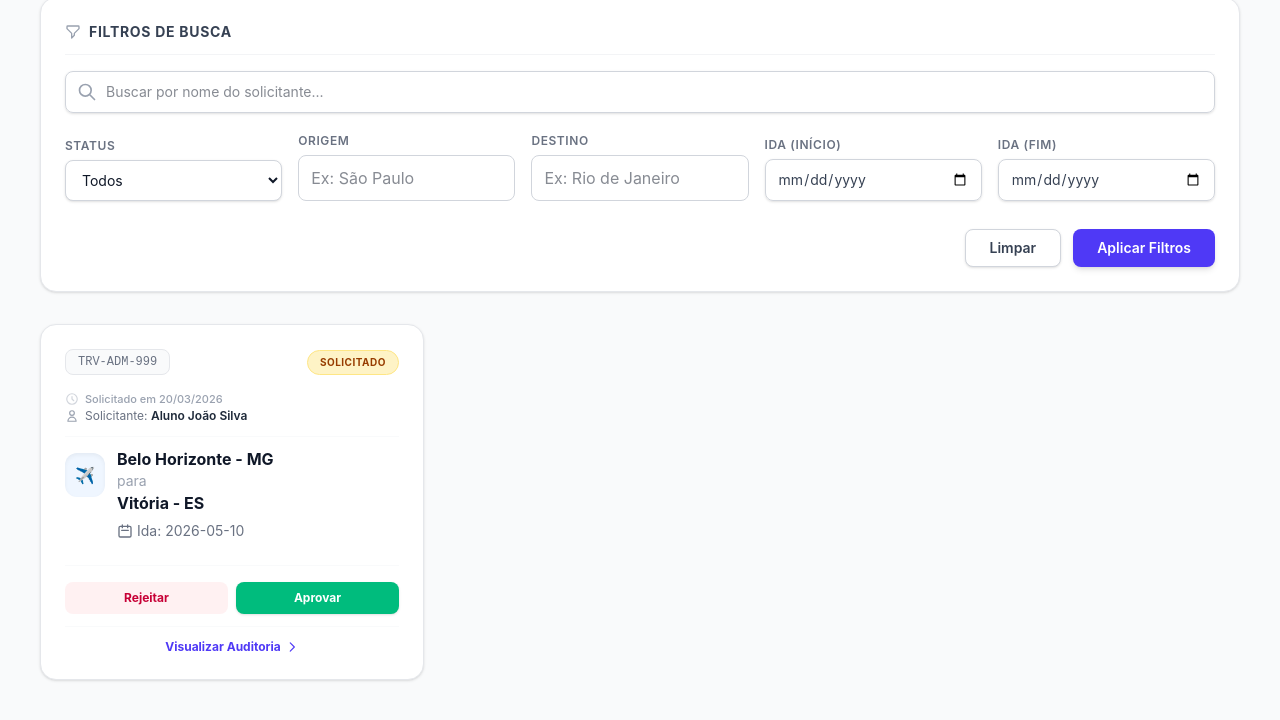
Test case: Travel Front-end E2E - Fluxos de Negócio › Visão do Admin › deve reprovar (cancelar) um pedido via SweetAlert2
The image size is (1280, 720).
(page scrolled)
Click the button "Rejeitar" at (147, 598), box top-left (65, 582), bottom-right (228, 614)
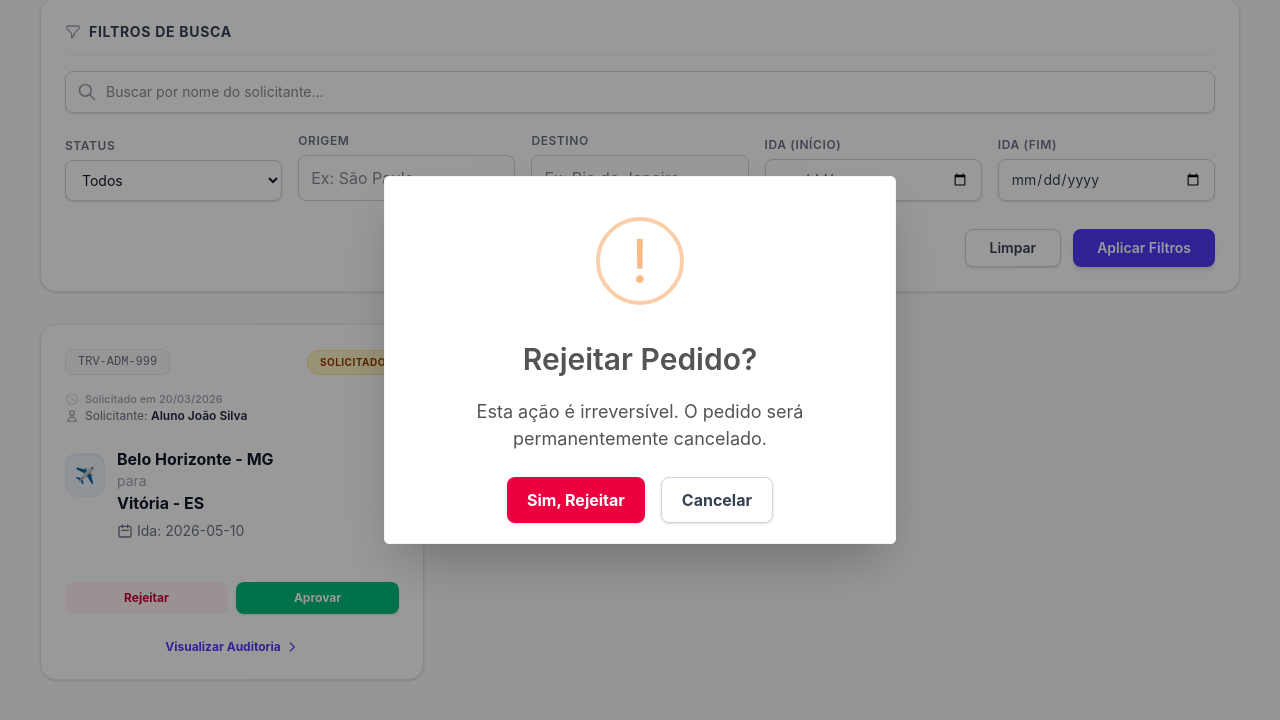
Expected: the heading "Rejeitar Pedido?" is shown, top-left (523, 341), bottom-right (757, 377)
Expected: the text "Esta ação é irreversível" is shown, top-left (477, 401), bottom-right (804, 449)
Click the button "Sim, Rejeitar" at (576, 501), box top-left (507, 478), bottom-right (645, 524)
(page scrolled)
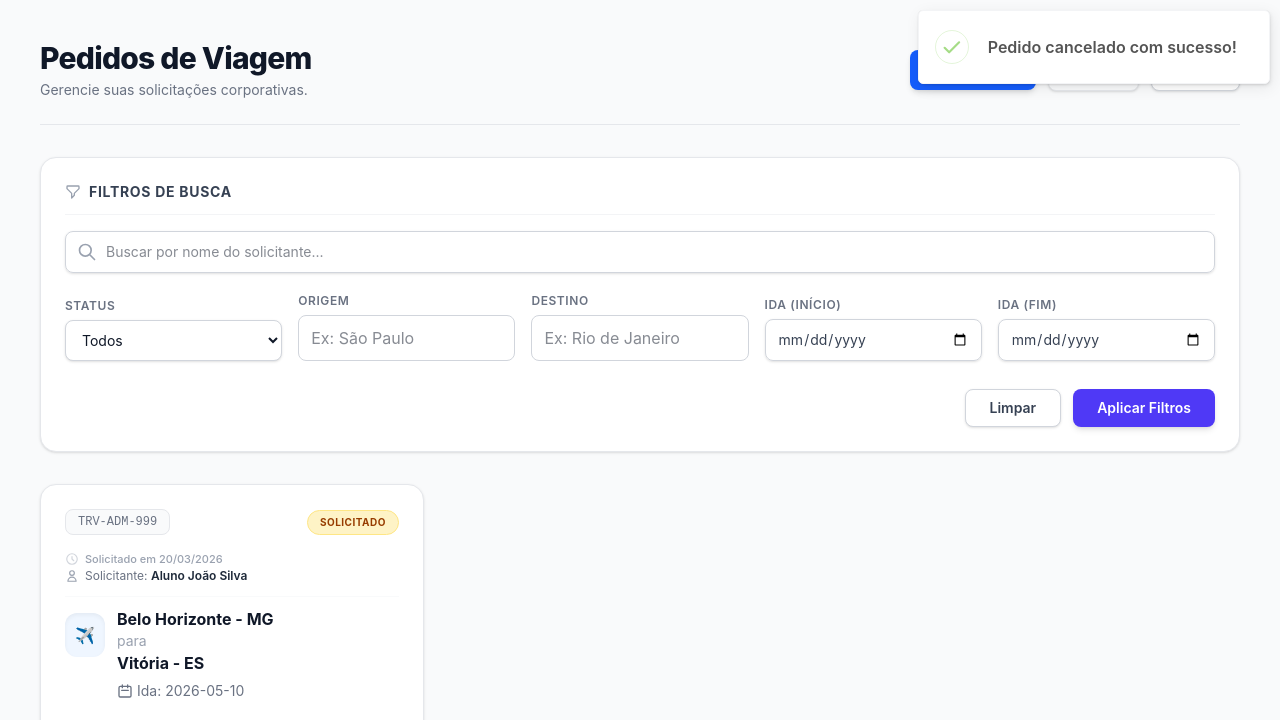
Expected: the heading "Pedido cancelado com sucesso!" is shown, top-left (988, 35), bottom-right (1237, 59)
